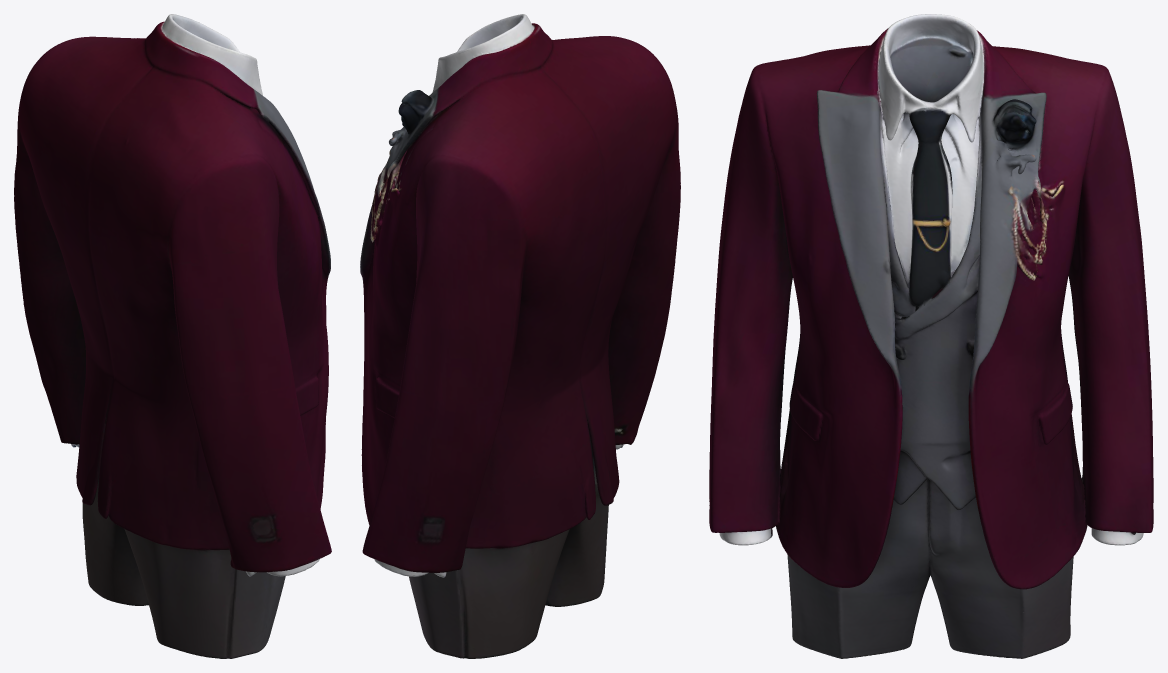
Rendered from REDSuit.glb.
3 renders of one model, left to right at view 1: azimuth 30°, elevation 25°; view 2: azimuth 150°, elevation 25°; view 3: azimuth 270°, elevation 25°, orthographic. The views are drawn at different scales.
Parts seen in each view (by area): view 1: tripo_node_5c52e5ed-98ae-4d68-a2b6-57faf52e24a9; view 2: tripo_node_5c52e5ed-98ae-4d68-a2b6-57faf52e24a9; view 3: tripo_node_5c52e5ed-98ae-4d68-a2b6-57faf52e24a9.
Boxes of the visible parts, left/top/right/bottom form: tripo_node_5c52e5ed-98ae-4d68-a2b6-57faf52e24a9: left=14, top=14, right=331, bottom=658; tripo_node_5c52e5ed-98ae-4d68-a2b6-57faf52e24a9: left=360, top=14, right=680, bottom=658; tripo_node_5c52e5ed-98ae-4d68-a2b6-57faf52e24a9: left=709, top=14, right=1153, bottom=658.
Size of the model in its own units: 0.4044 by 1 by 0.6507.
Materials: 1 (1 with a texture image).
